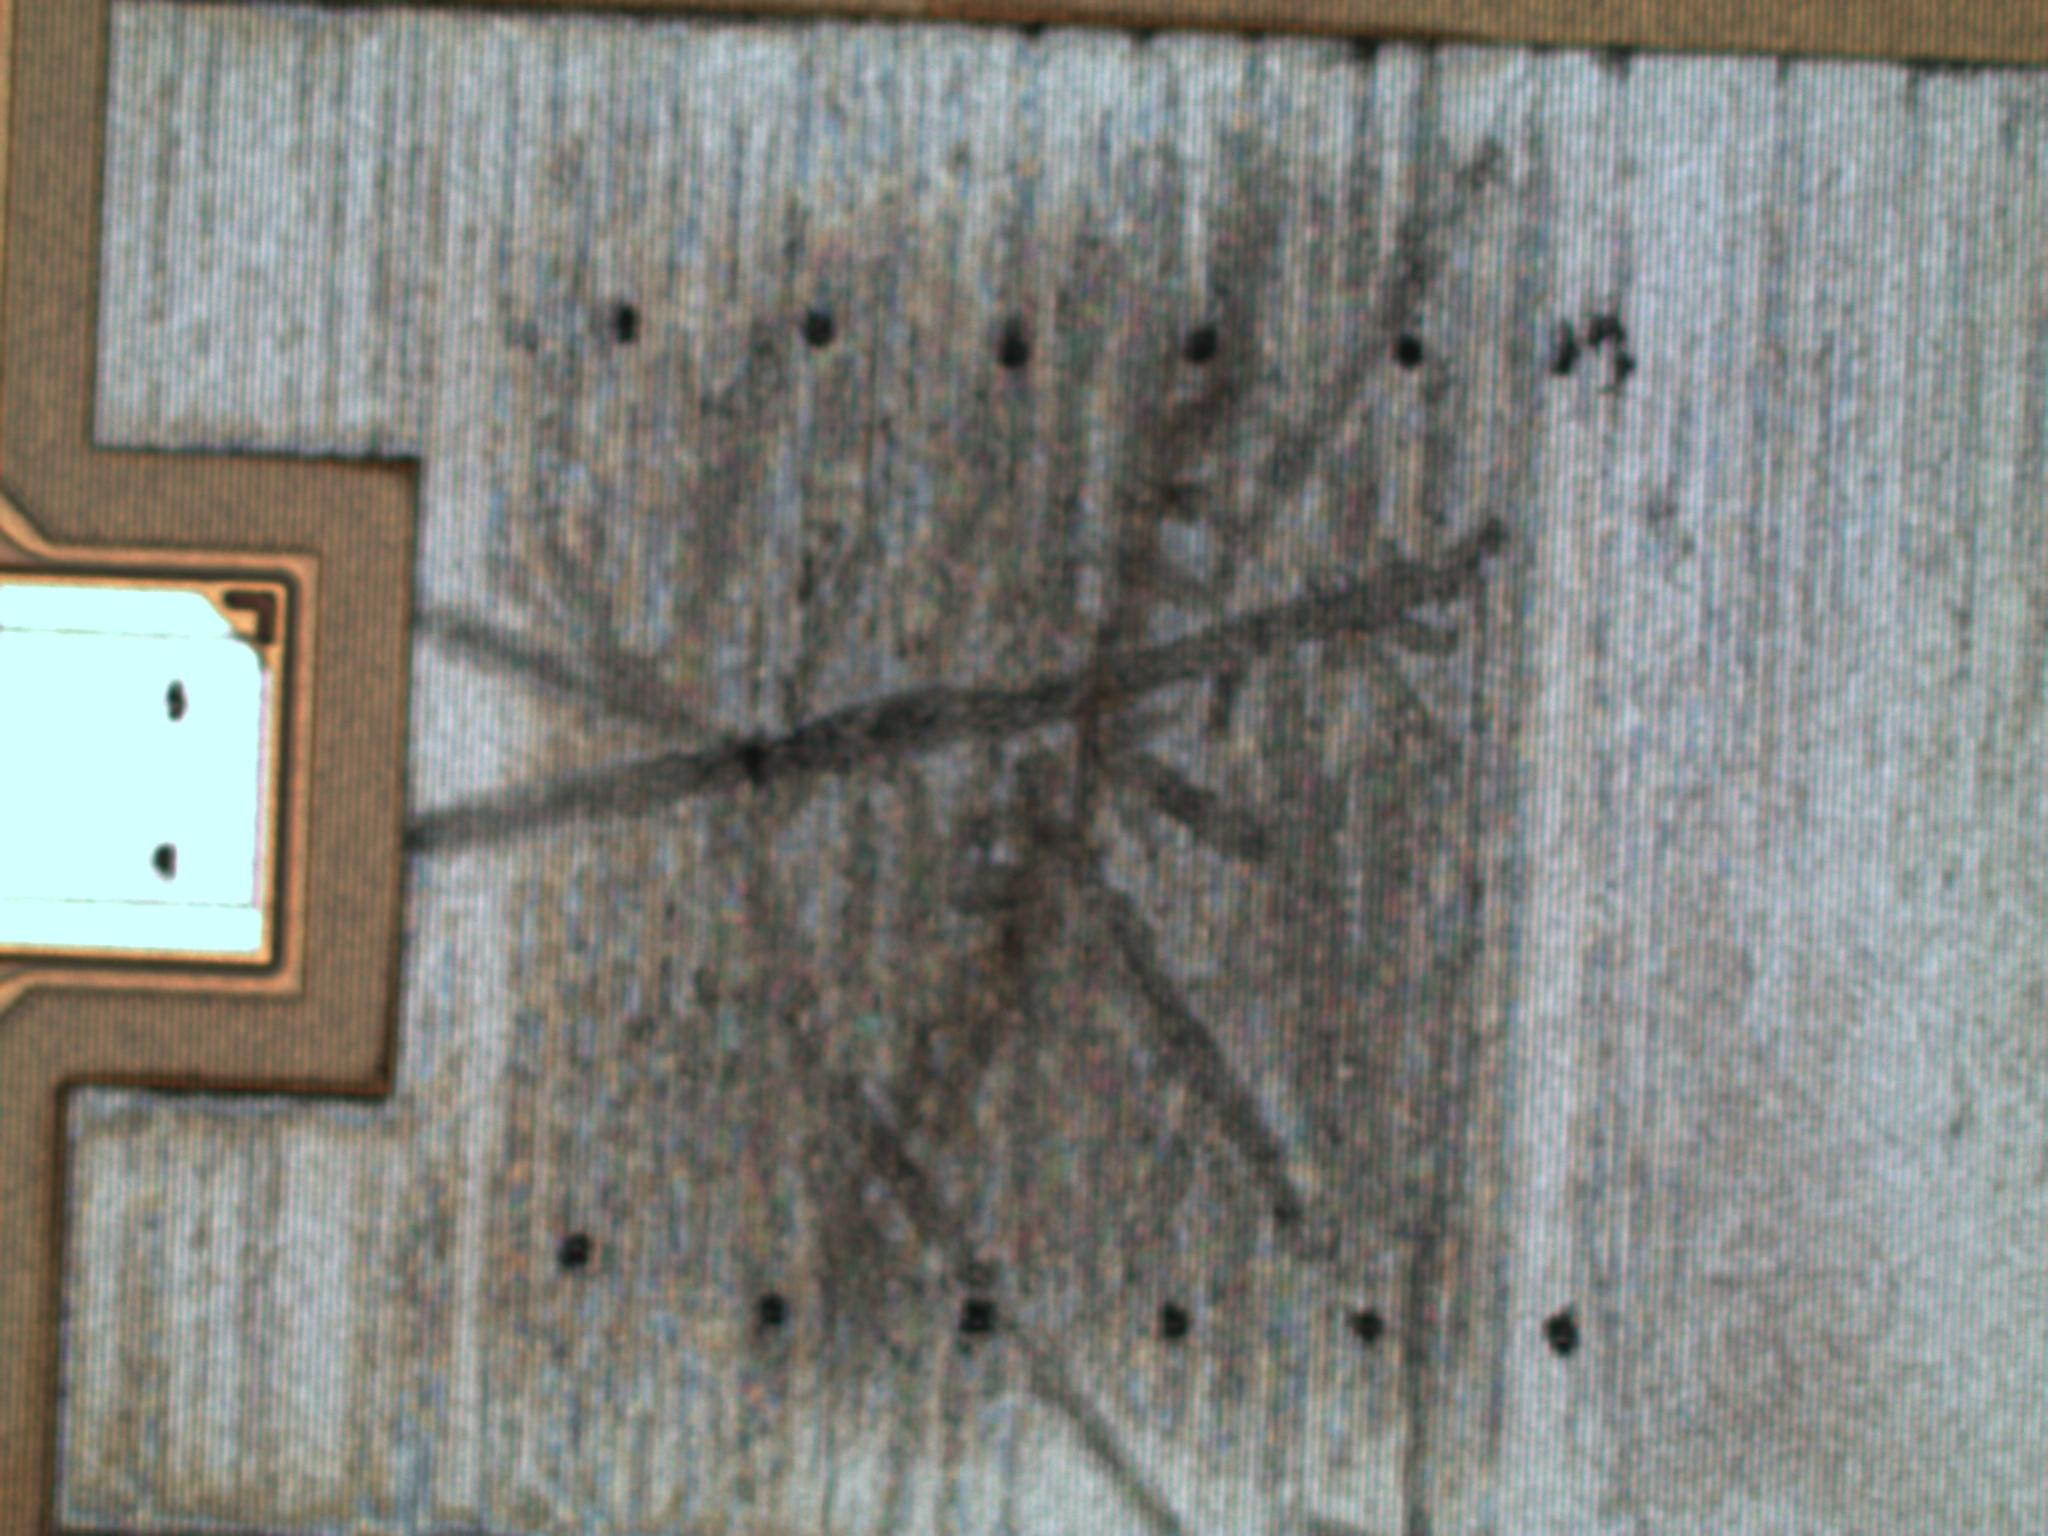SEZ BURNT: (42, 2, 2048, 1536)
